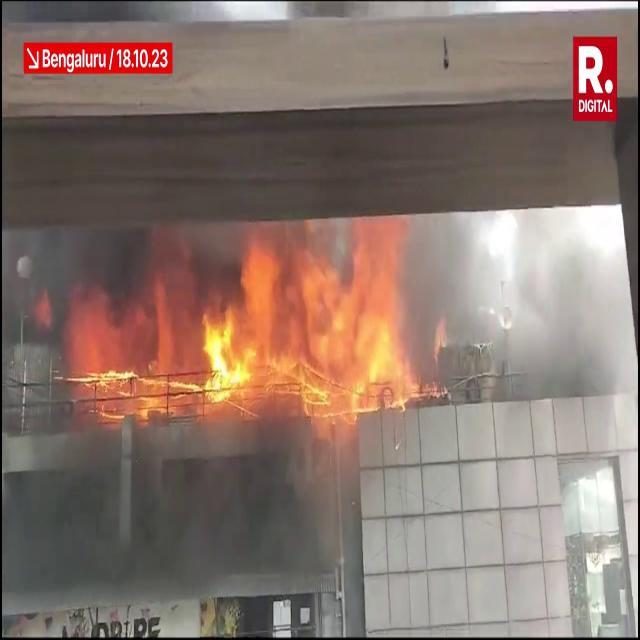Fire: (80, 224, 432, 421)
Smoke: (417, 208, 624, 412)
